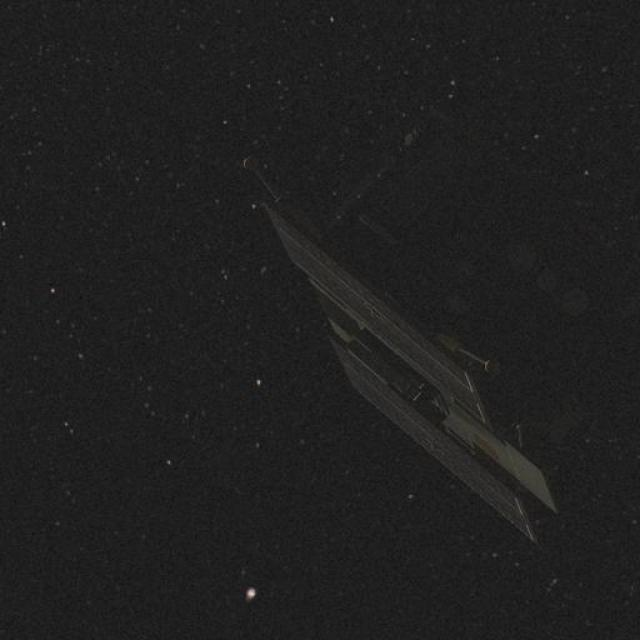proba_2: (288, 118, 630, 524)
